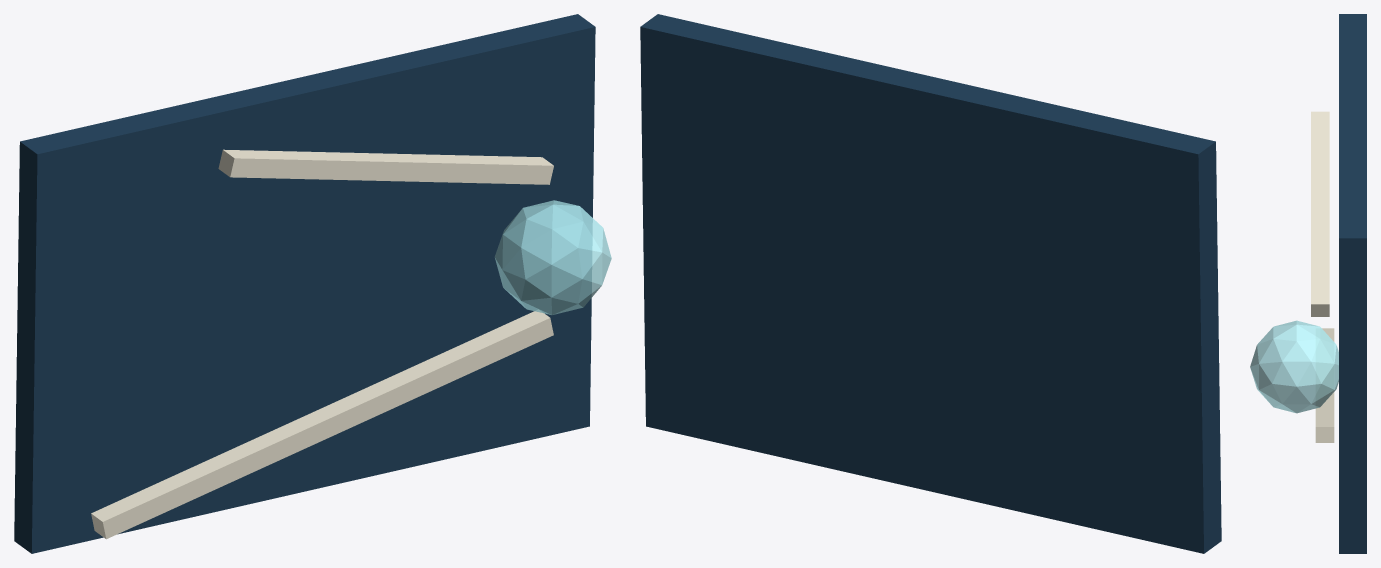
File: 02_world_prop_polish.glb
3 views of the same model, side by side, from view 1: azimuth 30°, elevation 25°; view 2: azimuth 150°, elevation 25°; view 3: azimuth 270°, elevation 25° (orthographic). The views are drawn at different scales.
Parts seen in each view (by area): view 1: object_overlay_plate, edge_wear_a, glow_socket, edge_wear_b; view 2: object_overlay_plate; view 3: object_overlay_plate, glow_socket, edge_wear_b, edge_wear_a.
Part boxes in pixels (x1,y1,x2,y2): object_overlay_plate: [14, 14, 595, 553]; edge_wear_a: [91, 310, 553, 539]; glow_socket: [494, 200, 611, 314]; edge_wear_b: [218, 149, 553, 184]; object_overlay_plate: [640, 14, 1221, 553]; object_overlay_plate: [1339, 14, 1366, 553]; glow_socket: [1250, 320, 1338, 413]; edge_wear_b: [1311, 111, 1329, 316]; edge_wear_a: [1315, 328, 1334, 442].
Bounding box in the file's own units: 1.11 × 0.7663 × 0.25.
